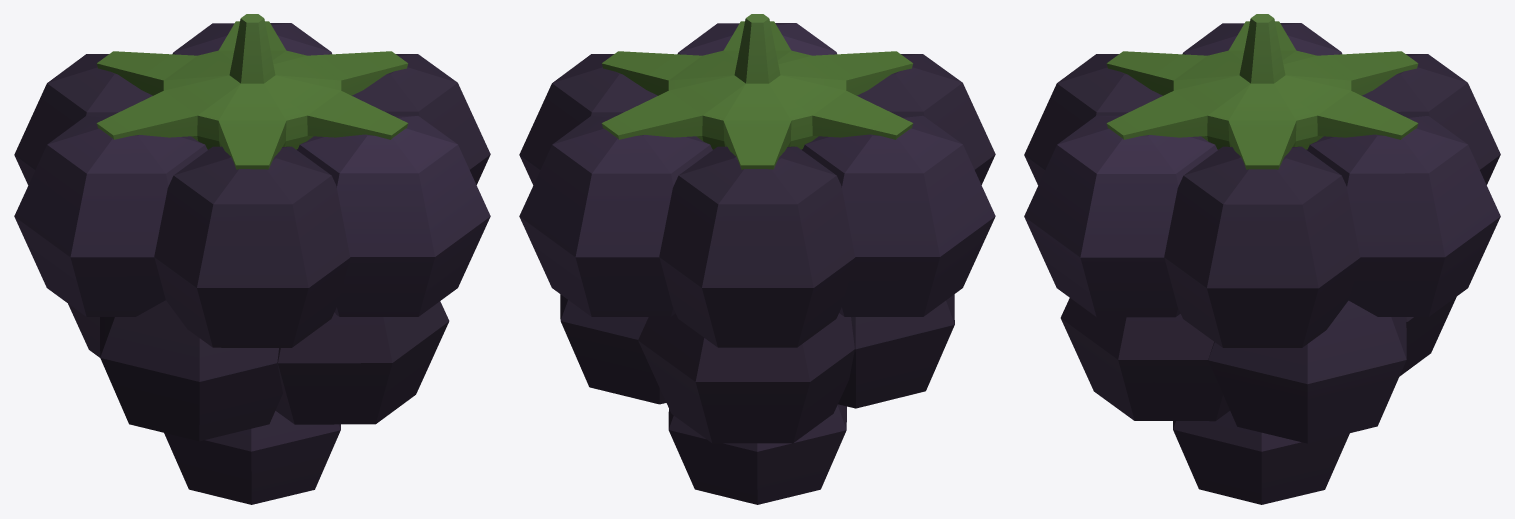
Rendered from Blackberry.fbx.
The picture shows the model from 3 angles, left to right: view 1: azimuth 30°, elevation 25°; view 2: azimuth 150°, elevation 25°; view 3: azimuth 270°, elevation 25°; orthographic projection.
Parts seen in each view (by area): view 1: Blackberry; view 2: Blackberry; view 3: Blackberry.
Boxes of the visible parts, x1,y1,x2,y2 form: Blackberry: [14, 14, 490, 504]; Blackberry: [519, 14, 995, 504]; Blackberry: [1024, 14, 1500, 504].
Bounding box in the file's own units: 11.09 × 11.84 × 10.87.
